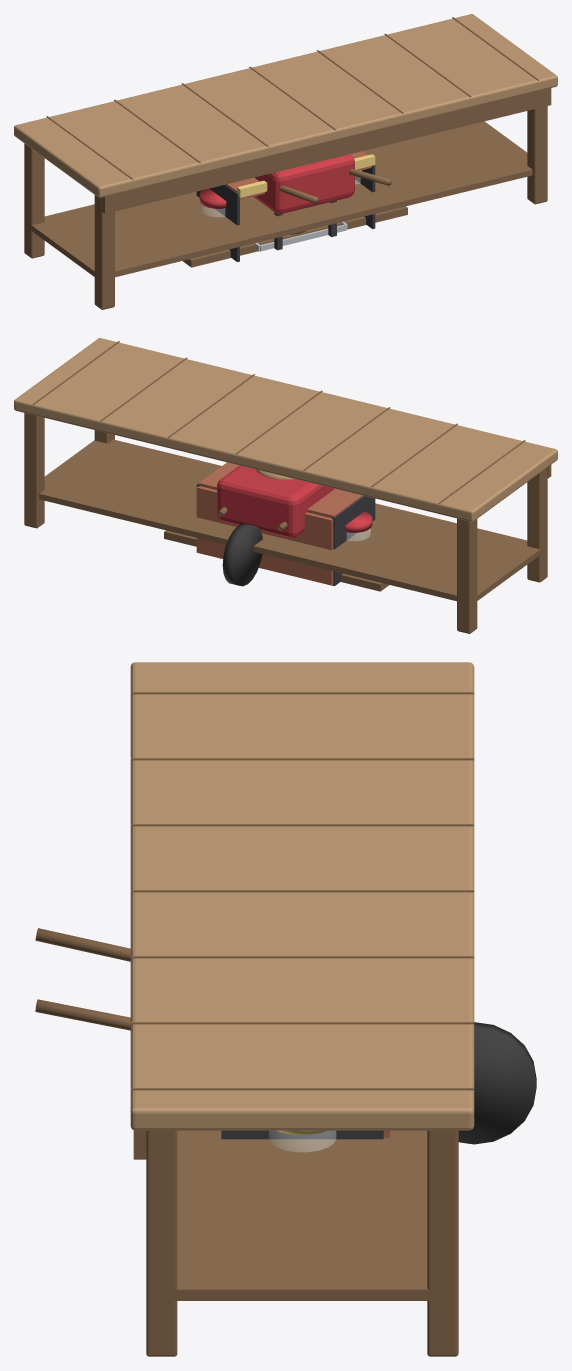
Rendered from props.glb.
3 renders of one model, top to bottom at view 1: azimuth 30°, elevation 25°; view 2: azimuth 150°, elevation 25°; view 3: azimuth 270°, elevation 25°, orthographic. The views are drawn at different scales.
Parts seen in each view (by area): view 1: Workbench, Wheelbarrow, OvenModule, Shelf, Tray; view 2: Workbench, Wheelbarrow, OvenModule, Shelf; view 3: Workbench, Wheelbarrow, OvenModule, Shelf.
Part boxes in pixels (bbox=[...]): Workbench: bbox=[14, 14, 557, 309]; Wheelbarrow: bbox=[253, 154, 391, 250]; OvenModule: bbox=[196, 151, 375, 261]; Shelf: bbox=[183, 170, 407, 267]; Tray: bbox=[253, 221, 347, 251]; Workbench: bbox=[14, 338, 557, 633]; Wheelbarrow: bbox=[217, 465, 334, 586]; OvenModule: bbox=[196, 462, 375, 585]; Shelf: bbox=[164, 511, 388, 591]; Workbench: bbox=[130, 662, 474, 1356]; Wheelbarrow: bbox=[35, 928, 536, 1144]; OvenModule: bbox=[221, 1130, 389, 1139]; Shelf: bbox=[269, 1130, 335, 1151].
Bounding box in the file's own units: 3.4 × 0.944 × 1.6.
